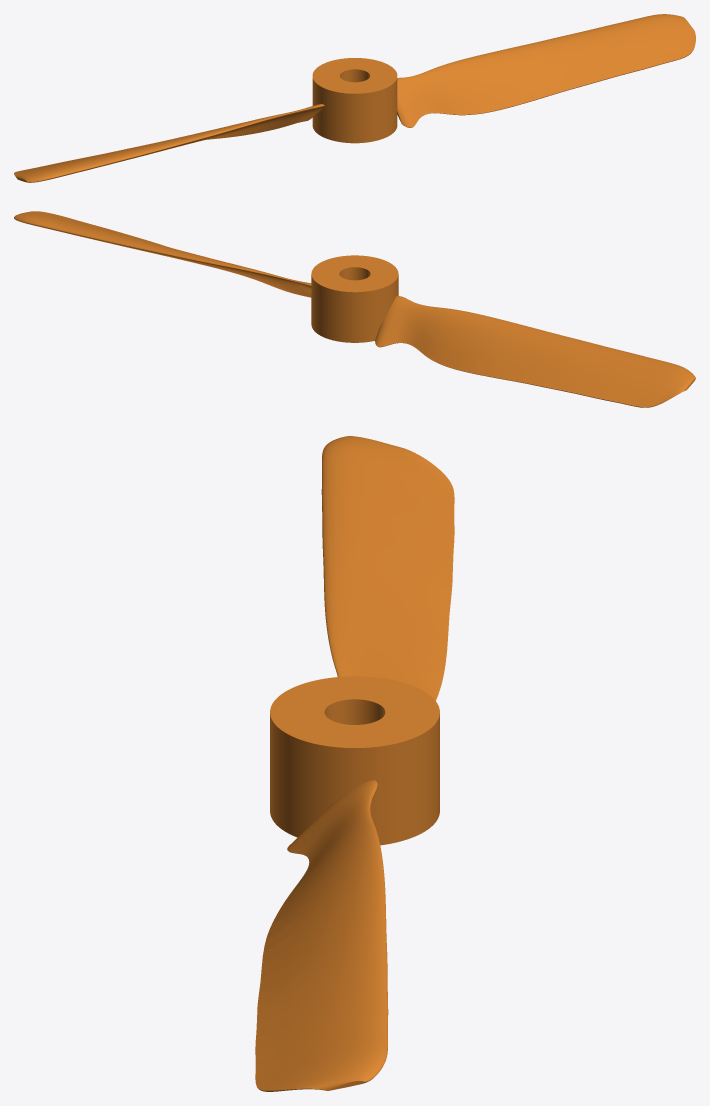
The picture shows the model from 3 angles, top to bottom: view 1: azimuth 30°, elevation 25°; view 2: azimuth 150°, elevation 25°; view 3: azimuth 270°, elevation 25°; orthographic projection. The views are drawn at different scales.
Parts seen in each view (by area): view 1: da4002_5x3.75; view 2: da4002_5x3.75; view 3: da4002_5x3.75.
Part boxes in pixels (x1=…): da4002_5x3.75: x1=14, y1=14, x2=695, y2=182; da4002_5x3.75: x1=14, y1=211, x2=695, y2=407; da4002_5x3.75: x1=255, y1=436, x2=454, y2=1091.
Bounding box in the file's own units: 0.1257 × 0.00906 × 0.0164.
